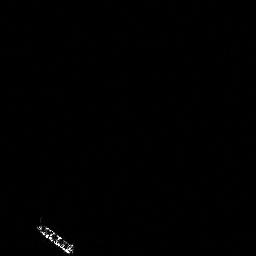ship: (33, 220, 77, 256)
